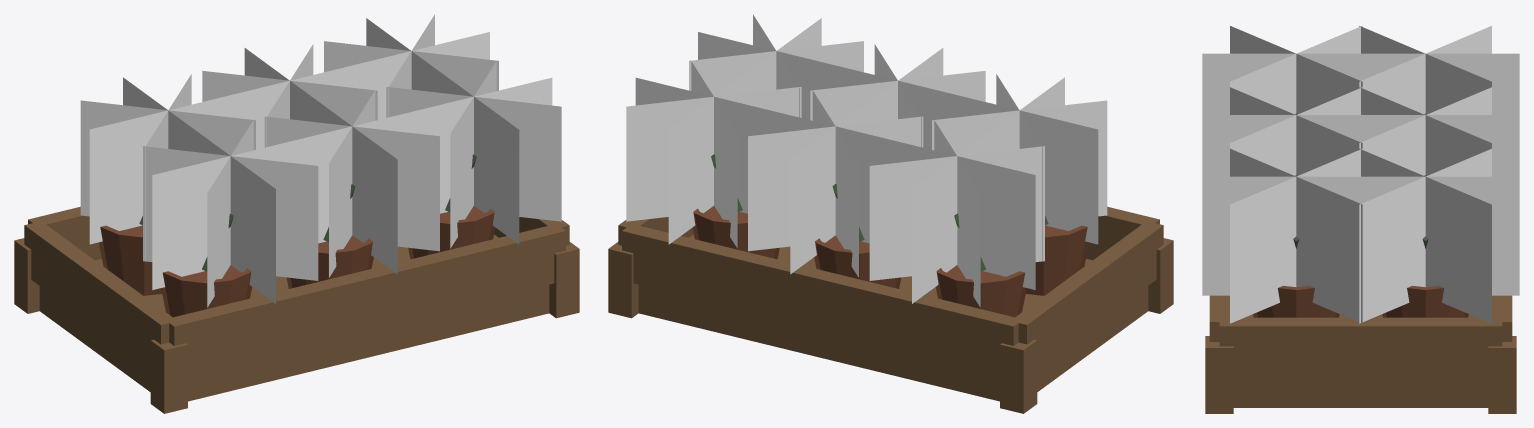
3 views of the same model, side by side, from view 1: azimuth 30°, elevation 25°; view 2: azimuth 150°, elevation 25°; view 3: azimuth 270°, elevation 25° (orthographic). The views are drawn at different scales.
Parts seen in each view (by area): view 1: a10; view 2: a10; view 3: a10.
Boxes of the visible parts, x1=… form: a10: x1=14, y1=14, x2=579, y2=413; a10: x1=608, y1=14, x2=1173, y2=413; a10: x1=1202, y1=26, x2=1519, y2=413.
Bounding box in the file's own units: 0.6395 × 0.2814 × 0.3925.
